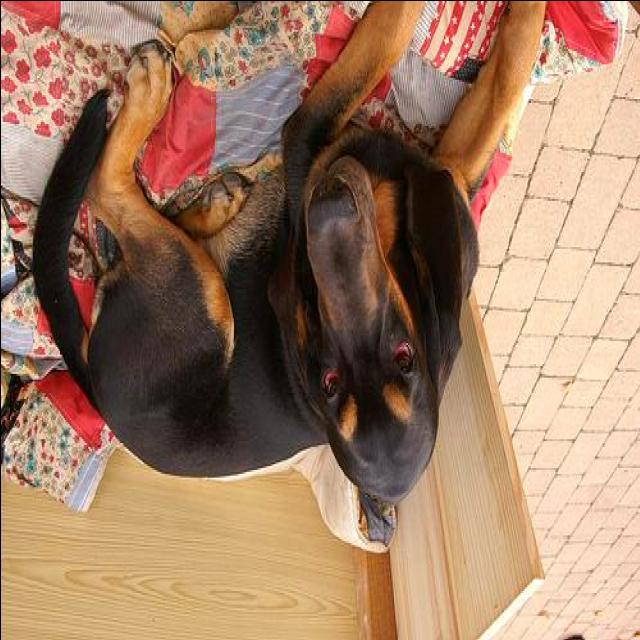bloodhound: (29, 10, 546, 508)
